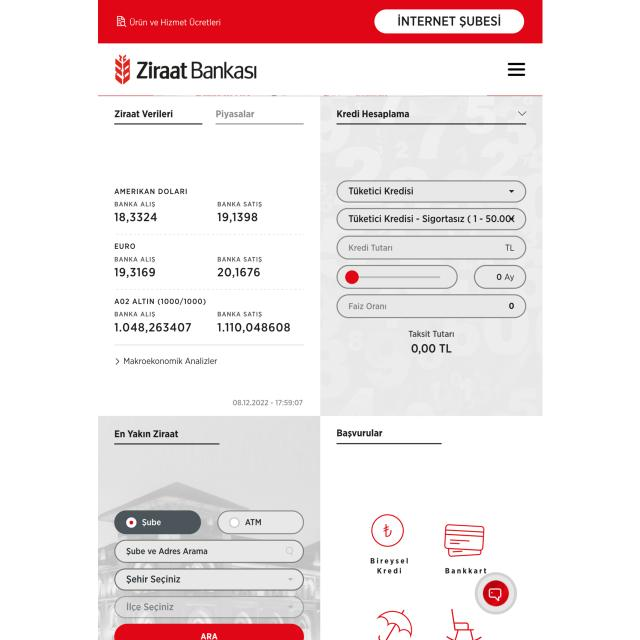input: (336, 234, 527, 260), (336, 293, 526, 319), (114, 539, 304, 563), (337, 208, 526, 230), (475, 265, 526, 289)
logo: (111, 52, 261, 88)
navigation: (507, 60, 527, 79)
slider: (337, 264, 458, 290)
